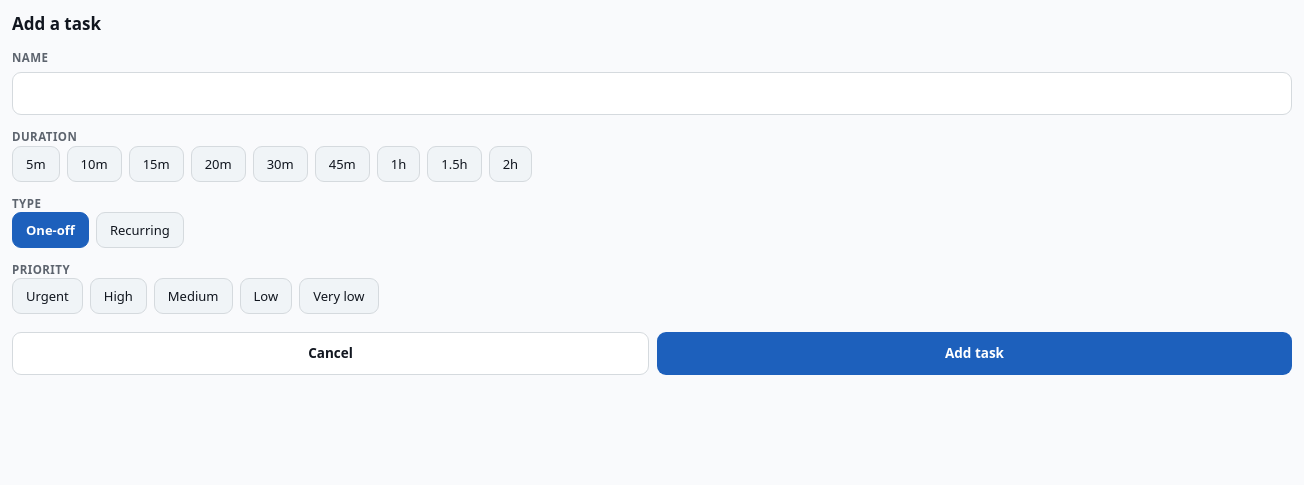
it: 9.2 choosing recurring swaps priority for the rule builder › hides the priority chips and shows the rule builder
Click the button "Recurring" at (140, 230), box left=96, top=212, right=184, bottom=248
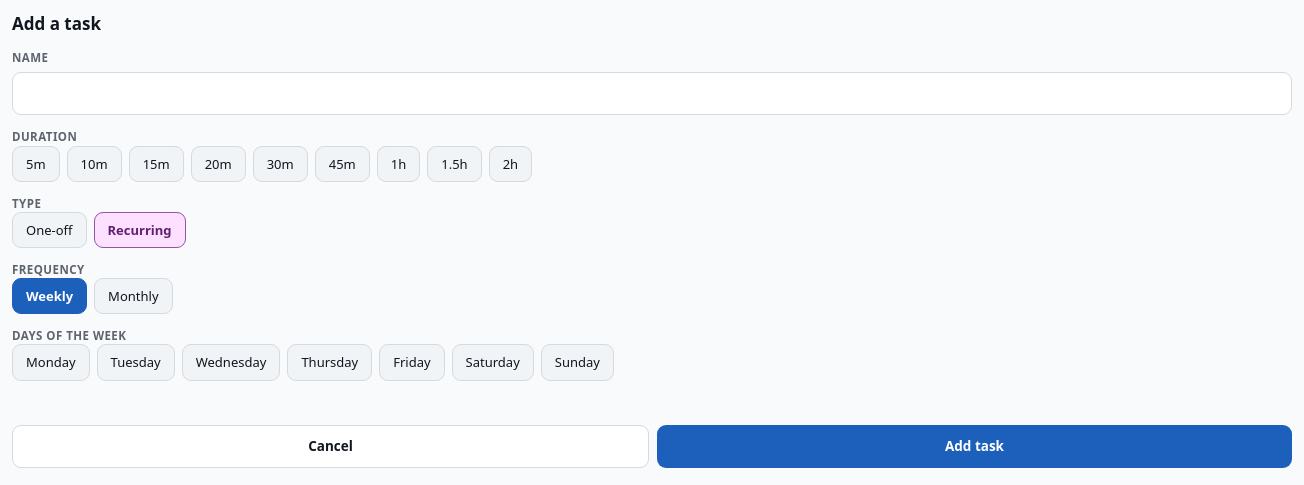
Expected: the text "Priority" is gone
Expected: the element "Frequency" is shown, left=12, top=262, right=172, bottom=314
